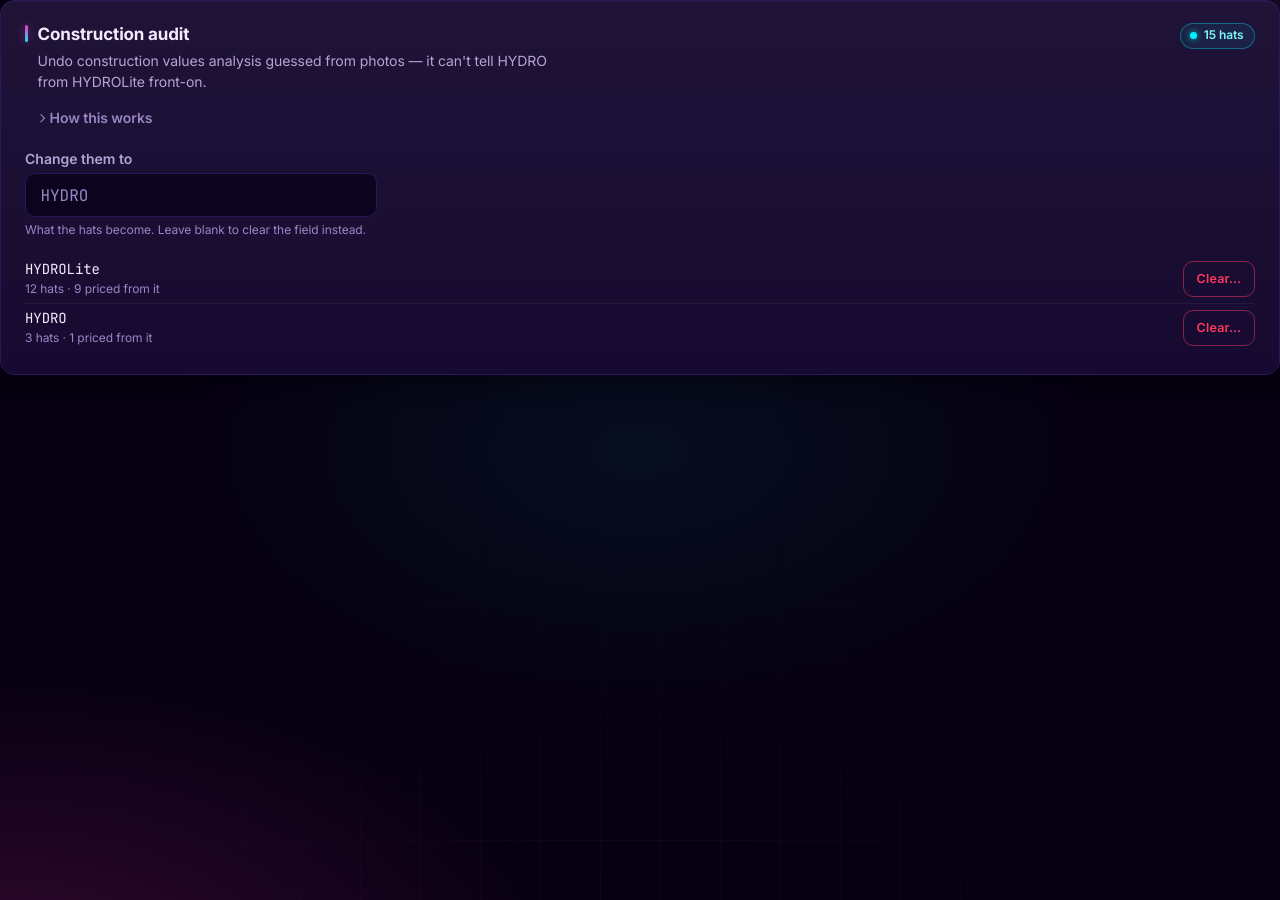
ConstructionAuditCard › cannot apply a preview that would change nothing
Step 1. Click the button with aria-label "Clear HYDROLite…" → (1219, 279), box [1183,261,1255,297]
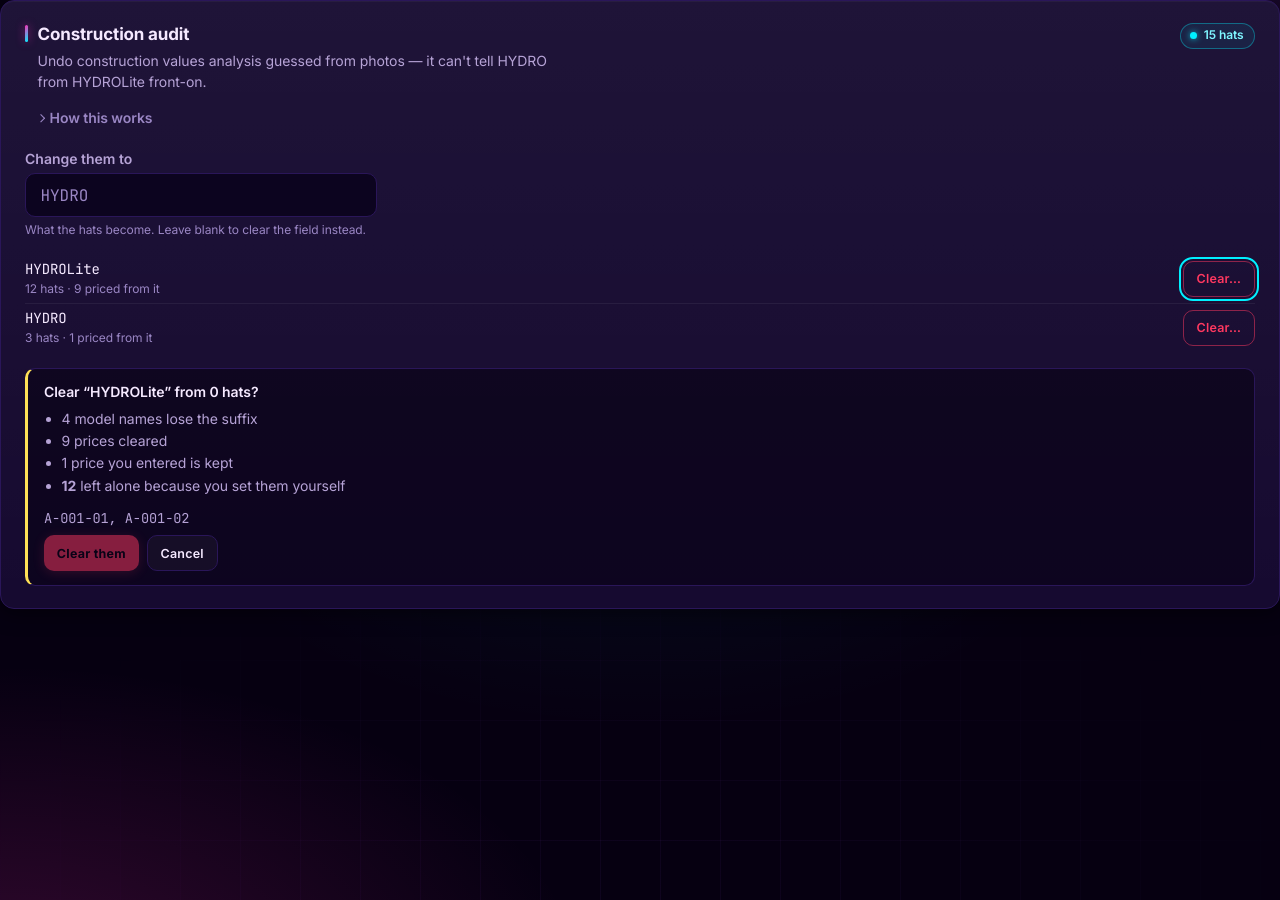
Now the button "Clear them" is disabled, box [44,535,139,571]
